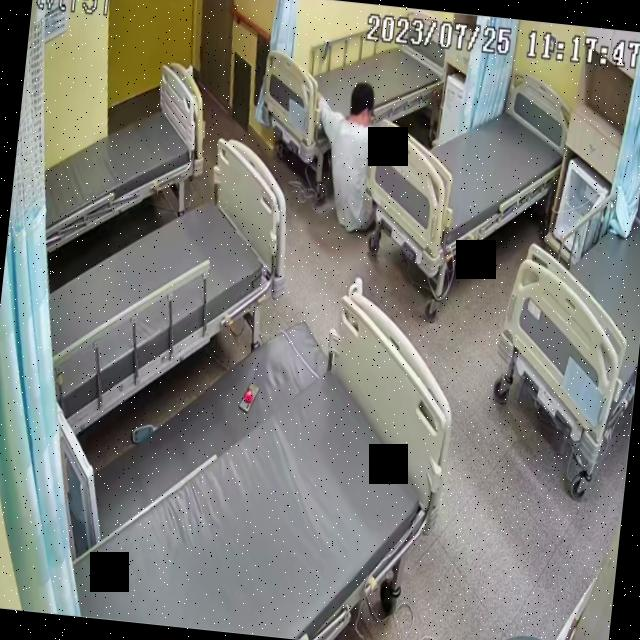bed: (66, 275, 454, 640), (30, 126, 294, 442), (491, 161, 640, 467), (357, 66, 570, 266), (34, 50, 212, 262), (261, 11, 448, 173)
fall: (301, 76, 381, 232)
patient: (300, 75, 382, 238)
